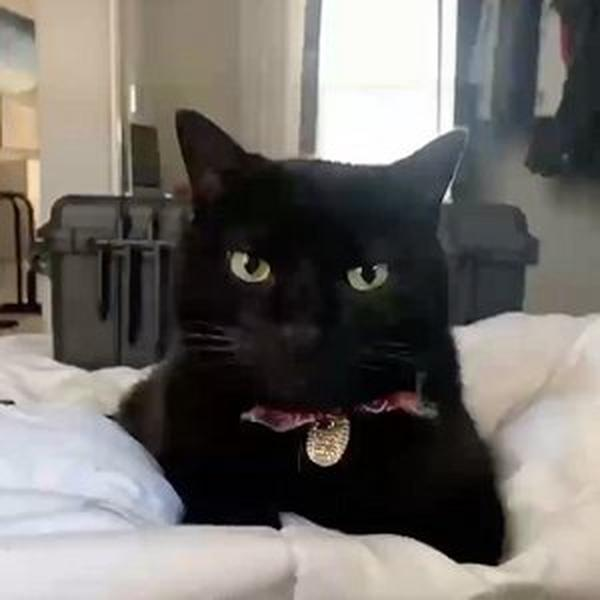michi: (103, 100, 519, 574)
